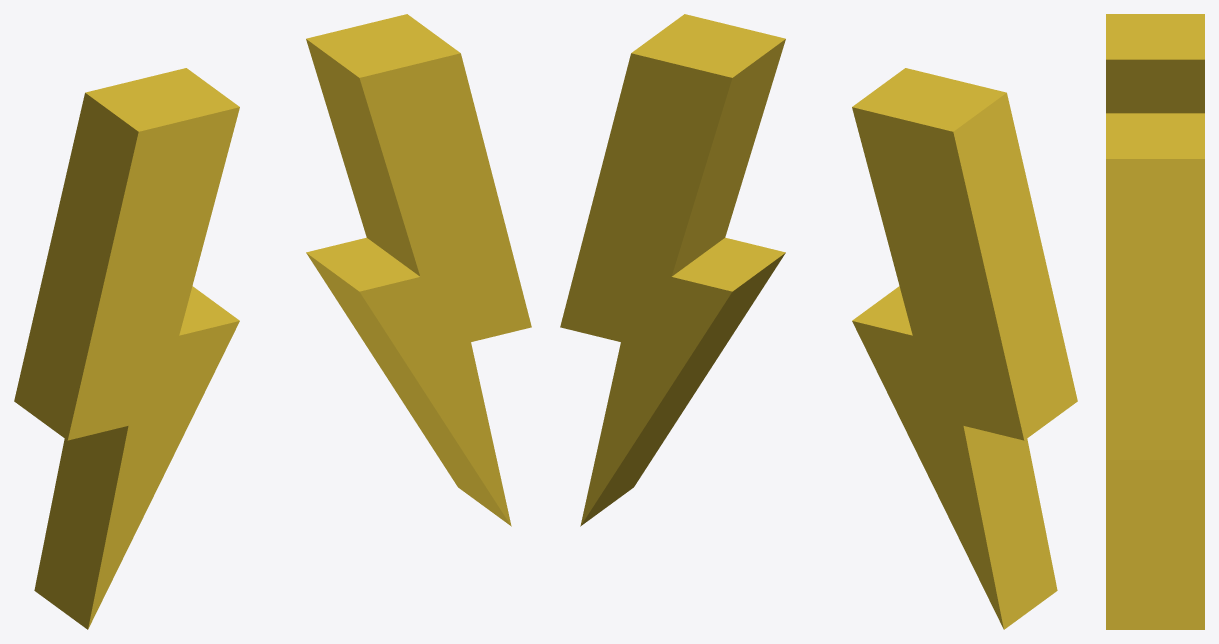
The model's file is 402_eclairs_metal.fbx.
3 views of the same model, side by side, from view 1: azimuth 30°, elevation 25°; view 2: azimuth 150°, elevation 25°; view 3: azimuth 270°, elevation 25° (orthographic). The views are drawn at different scales.
Visible parts, largest first — view 1: Eclairs; view 2: Eclairs; view 3: Eclairs.
Part boxes in pixels (x1,y1,x2,y2): Eclairs: (14, 14, 531, 629); Eclairs: (560, 14, 1077, 629); Eclairs: (1106, 14, 1204, 629).
Bounding box in the file's own units: 1.4 × 1.4 × 0.28.
Materials: 1 (1 with a texture image).
